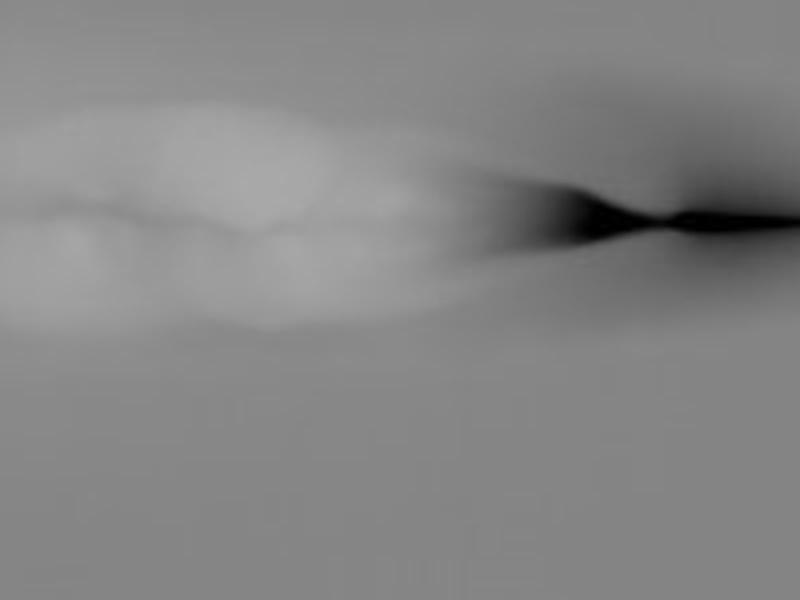defect: (537, 190, 643, 243), (668, 202, 794, 236)
